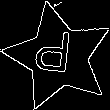P_S: (37, 30, 80, 84)
